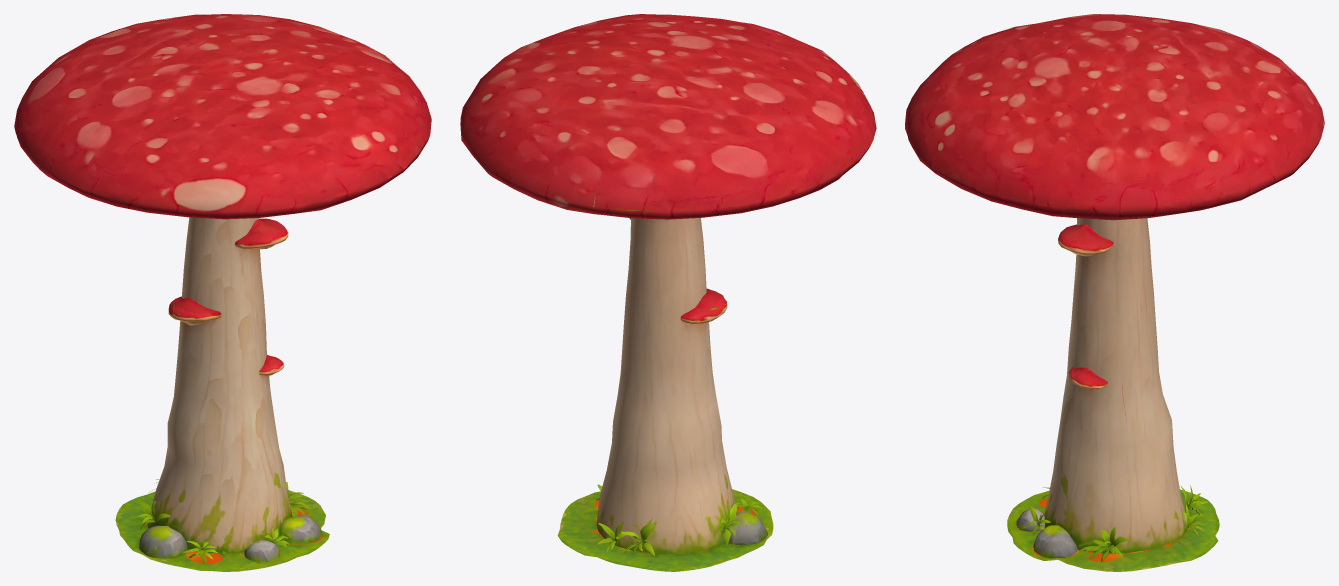
File: mushroom_tower.glb
3 views of the same model, side by side, from view 1: azimuth 30°, elevation 25°; view 2: azimuth 150°, elevation 25°; view 3: azimuth 270°, elevation 25° (orthographic).
Size of what is drawn, in the model's own units: 0.8146 by 1 by 0.8212.
1 material, 1 textured.
